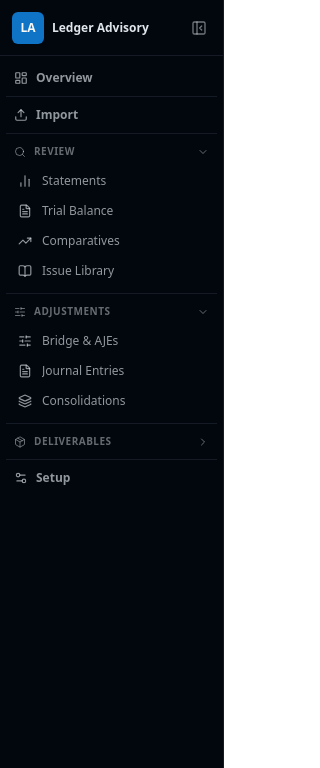
Sidebar — Sprint 3.11 › collapse button toggles sidebar width class
The image size is (320, 768).
Step 1. Click the button with test id "sidebar-collapse-btn" → (199, 28), box [187, 16, 211, 40]
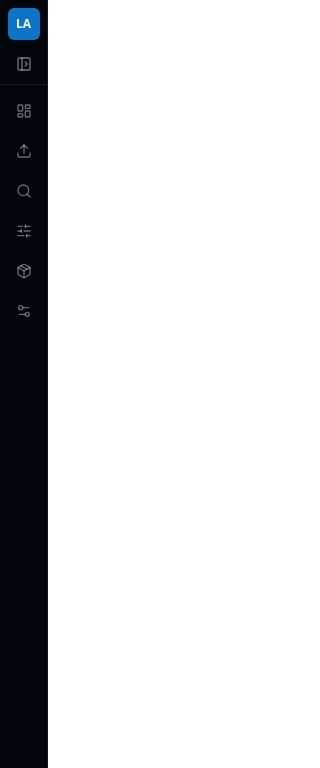
Result: the element with test id "sidebar" has class "w-12" at [0, 0, 48, 767]
Step 2. Click the button with test id "sidebar-collapse-btn" → (24, 64), box [12, 52, 36, 76]
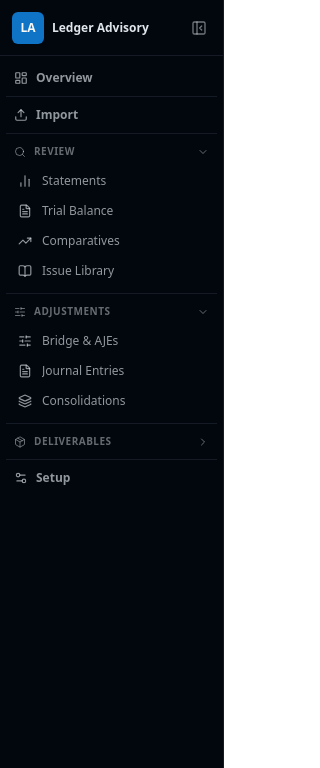
Result: the element with test id "sidebar" has class "w-56"
